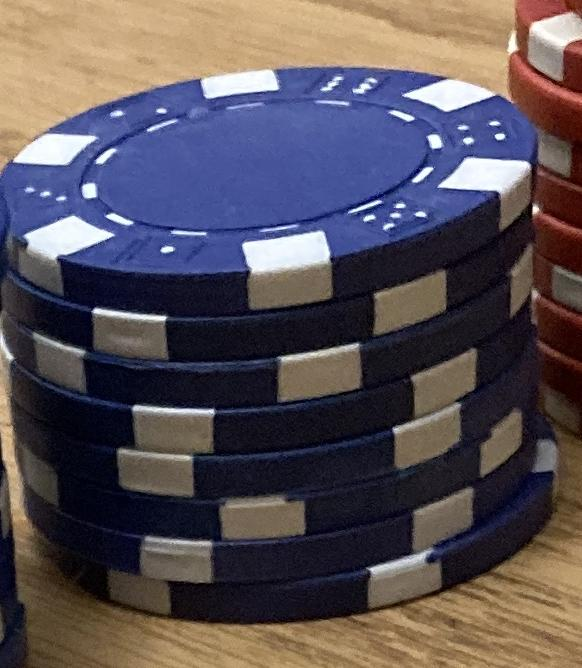Chip: (1, 1, 582, 668)
